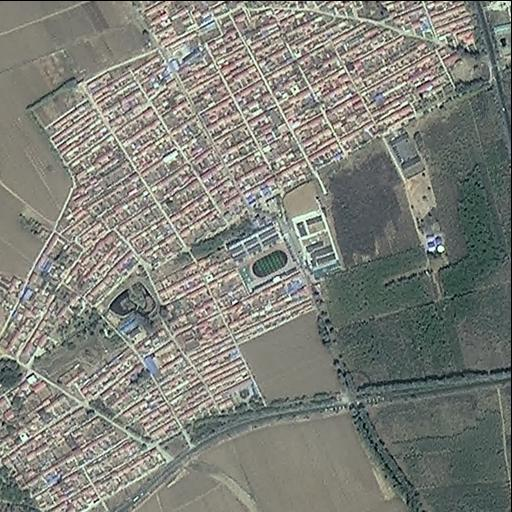school: (224, 219, 302, 294)
